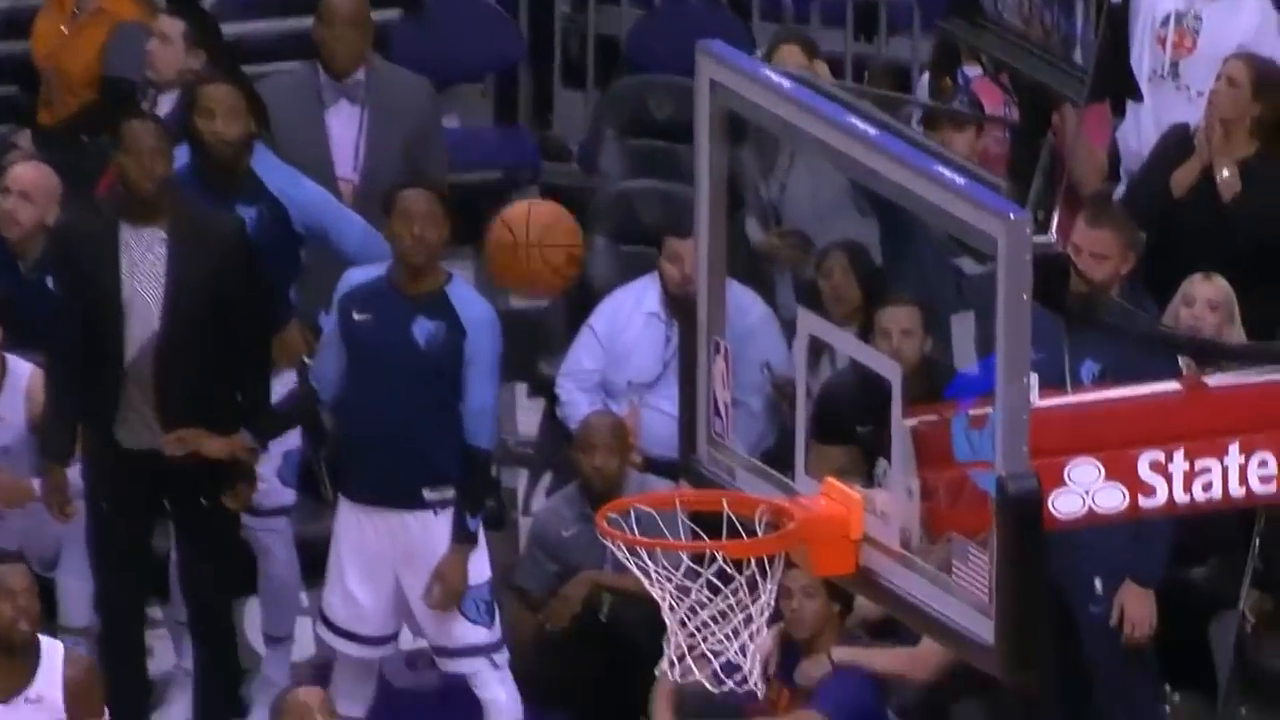ball: (480, 195, 592, 308)
